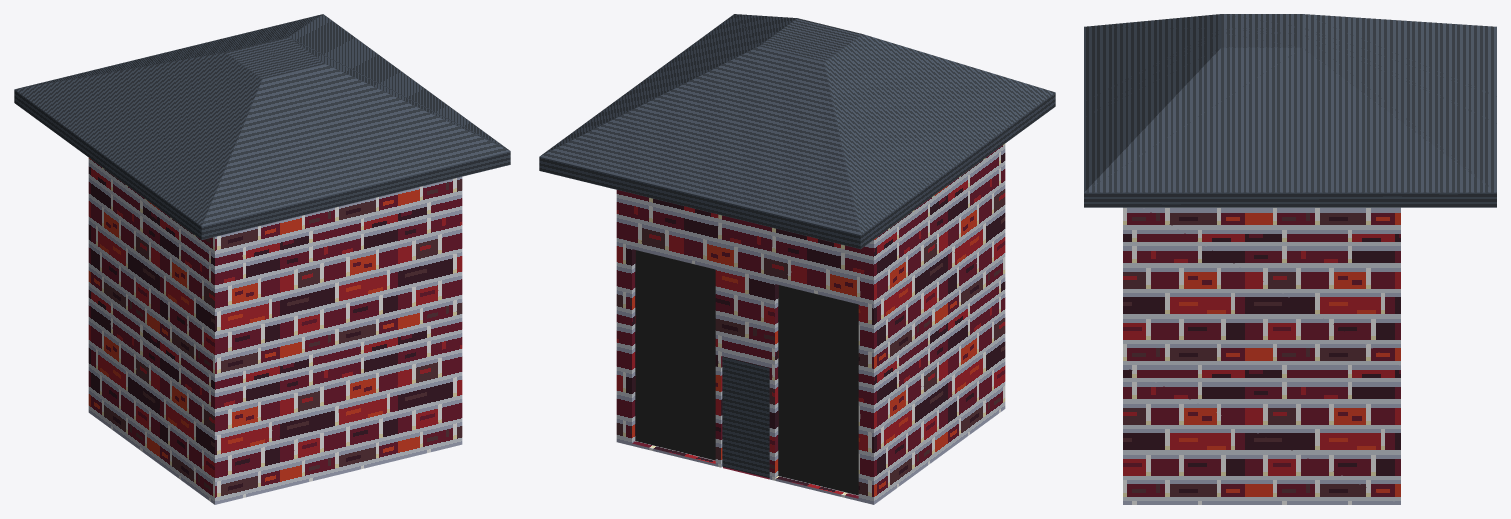
File: building.glb
3 views of the same model, side by side, from view 1: azimuth 30°, elevation 25°; view 2: azimuth 150°, elevation 25°; view 3: azimuth 270°, elevation 25° (orthographic). The views are drawn at different scales.
Parts seen in each view (by area): view 1: Cube; view 2: Cube; view 3: Cube.
Boxes of the visible parts, box(x1,y1,x2,y2) form: Cube: box(14, 14, 510, 504); Cube: box(539, 14, 1055, 504); Cube: box(1084, 14, 1496, 504).
Bounding box in the file's own units: 11.24 × 12.87 × 11.81.
3 materials, 2 textured.
